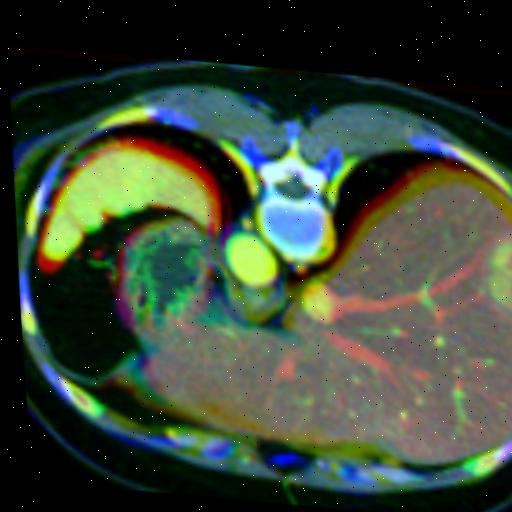Tumor: (114, 215, 205, 326)
